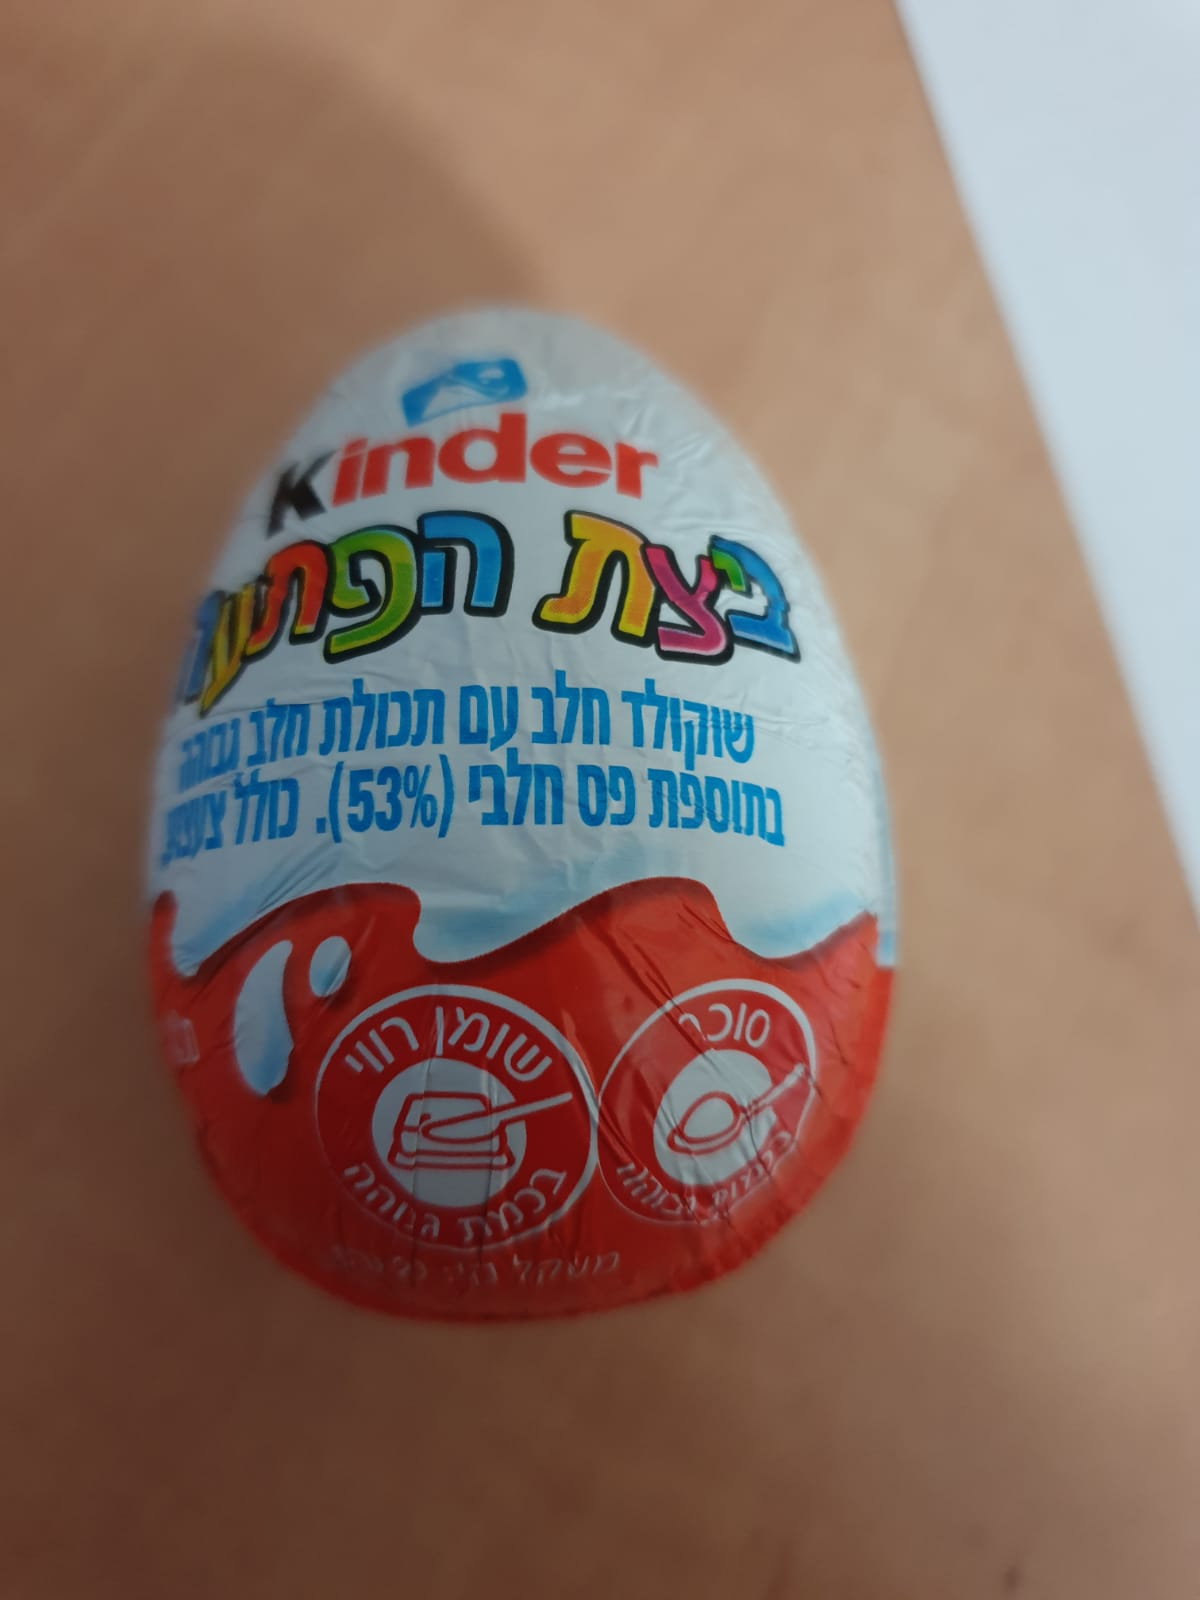fat: (311, 985, 596, 1256)
sugar: (592, 978, 819, 1231)
